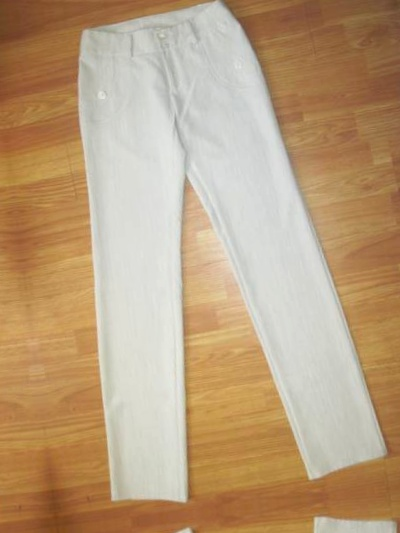Pants: (41, 0, 398, 513), (109, 500, 400, 533), (0, 35, 6, 533), (0, 0, 331, 5)
